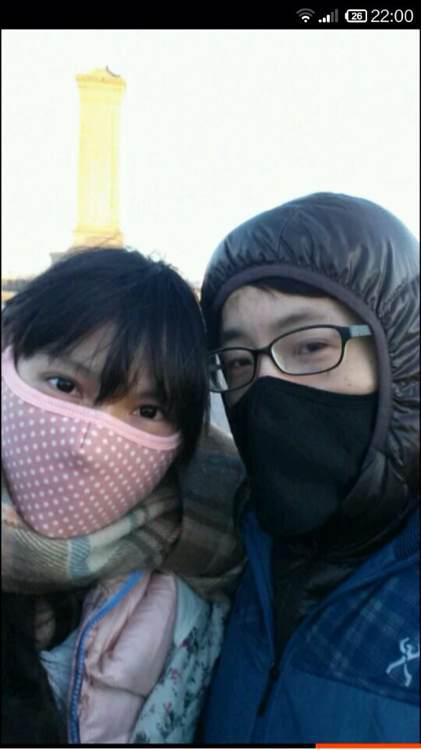OK: (217, 321, 410, 529), (9, 340, 188, 526)
